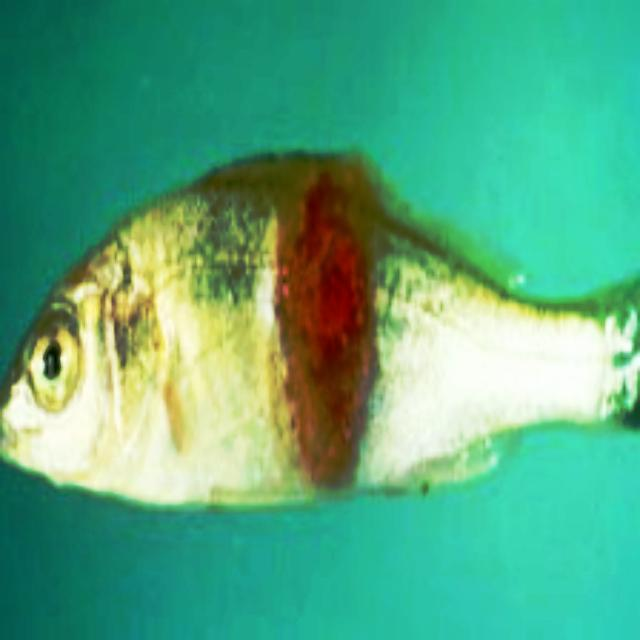Edwardsiella Ictaluri -Bacterial Red Disease-: (0, 154, 637, 503)
